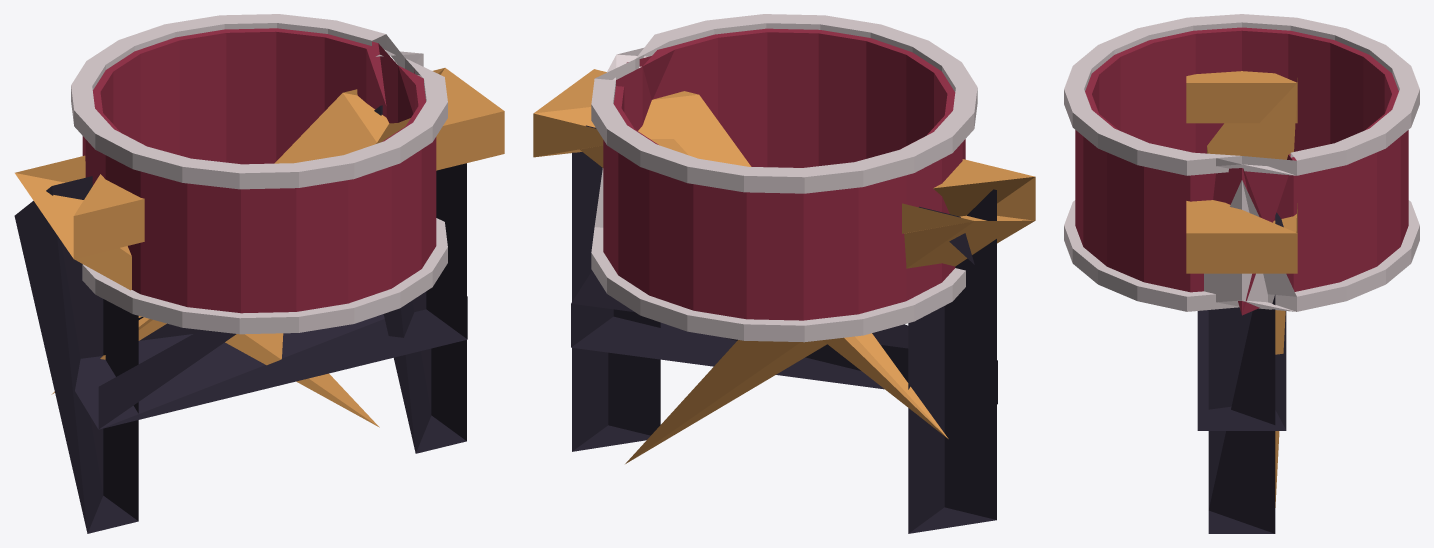
The model's file is dojo_ritual_drum.obj.
3 views of the same model, side by side, from view 1: azimuth 30°, elevation 25°; view 2: azimuth 150°, elevation 25°; view 3: azimuth 270°, elevation 25° (orthographic). The views are drawn at different scales.
Visible parts, largest first — view 1: dojo_ritual_drum; view 2: dojo_ritual_drum; view 3: dojo_ritual_drum.
Boxes of the visible parts, left/top/right/bottom form: dojo_ritual_drum: left=14, top=14, right=504, bottom=533; dojo_ritual_drum: left=533, top=14, right=1035, bottom=533; dojo_ritual_drum: left=1064, top=14, right=1419, bottom=533.
Bounding box in the file's own units: 4.2 × 3.55 × 3.2.
